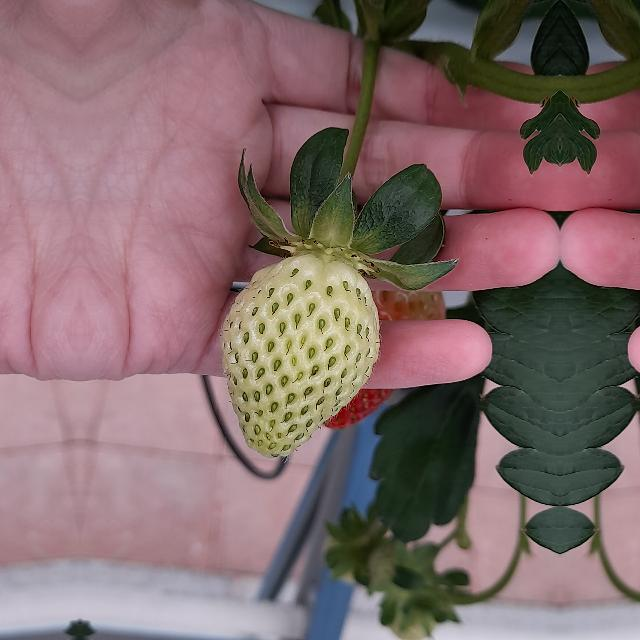Health_25: (222, 254, 381, 458)
